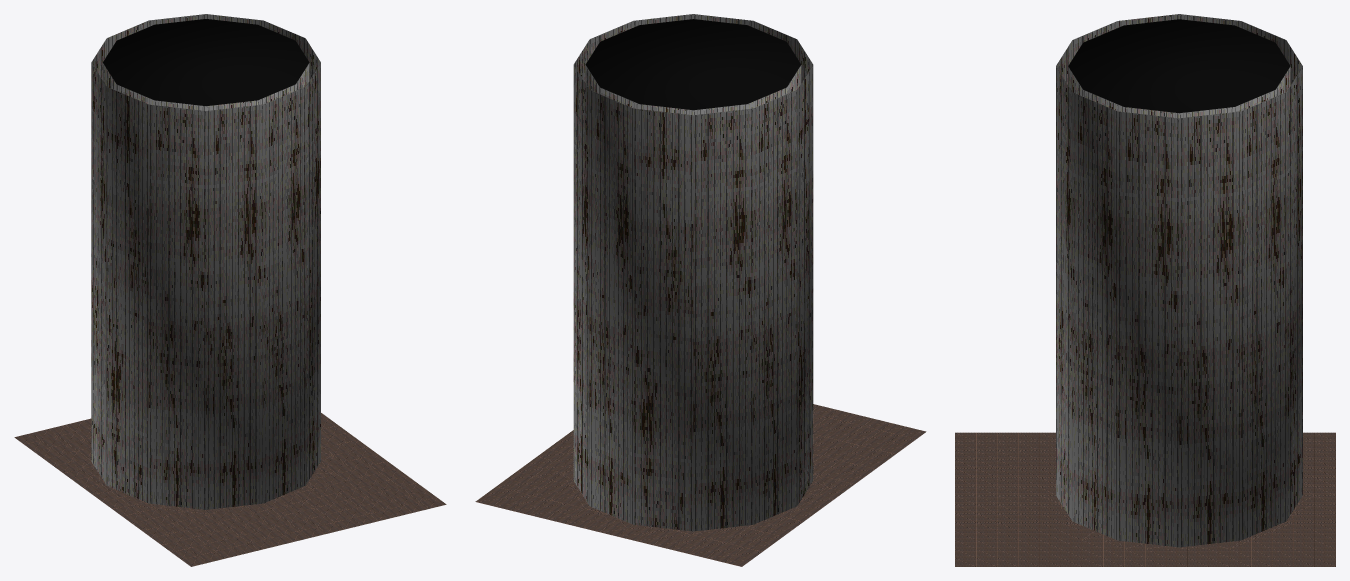
The model's file is HUGEEE_TOGETHER.glb.
3 views of the same model, side by side, from view 1: azimuth 30°, elevation 25°; view 2: azimuth 150°, elevation 25°; view 3: azimuth 270°, elevation 25° (orthographic). The views are drawn at different scales.
Visible parts, largest first — view 1: HUGEEE_TOGETHER; view 2: HUGEEE_TOGETHER; view 3: HUGEEE_TOGETHER.
Boxes of the visible parts, x1,y1,x2,y2 form: HUGEEE_TOGETHER: [14, 14, 446, 566]; HUGEEE_TOGETHER: [475, 14, 926, 566]; HUGEEE_TOGETHER: [955, 14, 1335, 566].
Bounding box in the file's own units: 30 × 45.78 × 36.
Materials: 2 (2 with a texture image).
